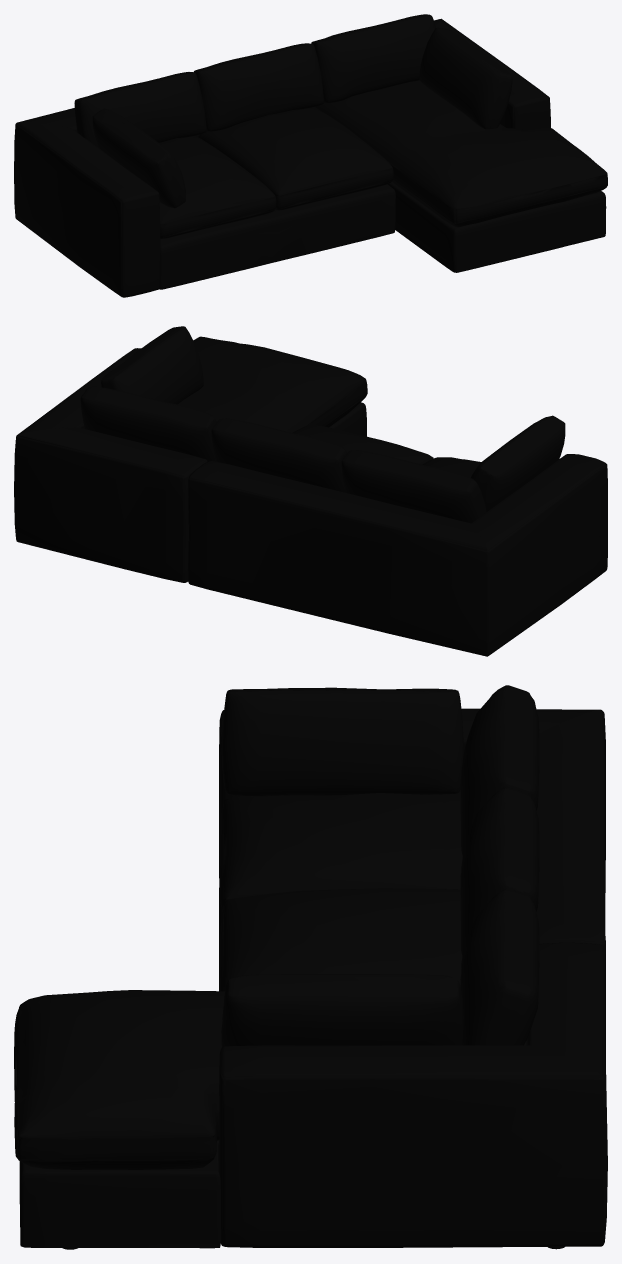
File: sofa-9.glb
3 renders of one model, top to bottom at view 1: azimuth 30°, elevation 25°; view 2: azimuth 150°, elevation 25°; view 3: azimuth 270°, elevation 25°, orthographic. The views are drawn at different scales.
Visible parts, largest first — view 1: sofa; view 2: sofa; view 3: sofa.
Boxes of the visible parts, x1,y1,x2,y2 form: sofa: (14,14,607,297); sofa: (14,326,607,656); sofa: (14,685,607,1249).
Bounding box in the file's own units: 17.5 × 5.41 × 11.82.
Materials: 1 (1 with a texture image).
